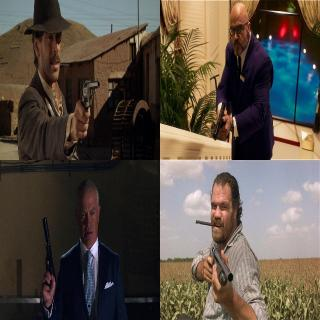gun: (75, 76, 99, 146), (205, 241, 233, 299), (38, 216, 56, 292), (212, 100, 228, 144)
